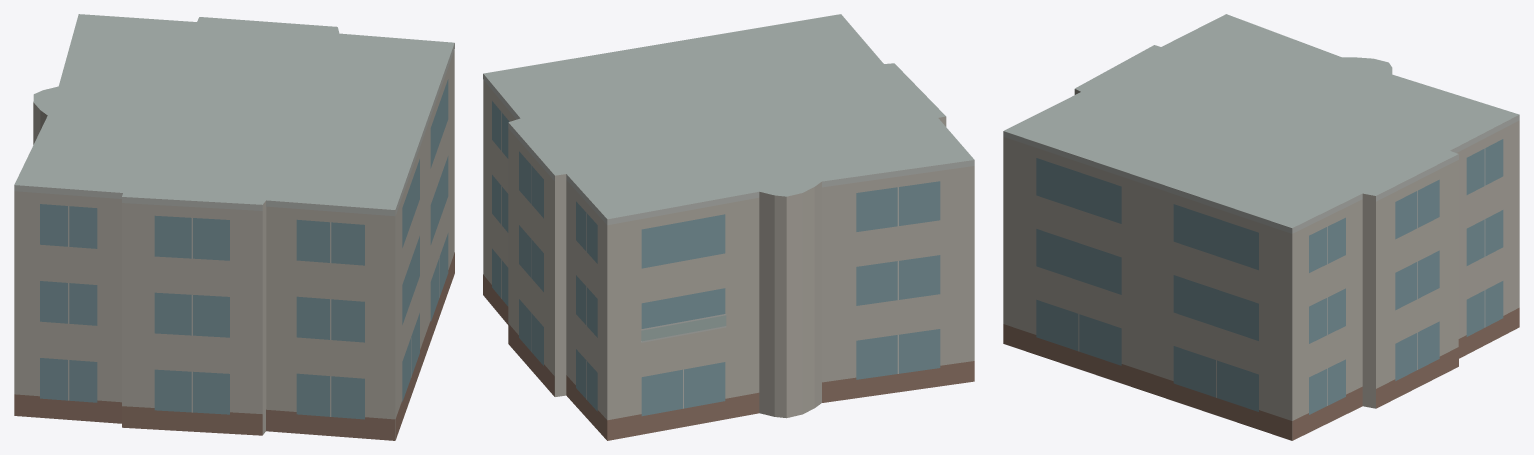
File: survey-upis-32678559.glb
3 views of the same model, side by side, from view 1: azimuth 30°, elevation 25°; view 2: azimuth 150°, elevation 25°; view 3: azimuth 270°, elevation 25° (orthographic). The views are drawn at different scales.
Parts seen in each view (by area): view 1: survey-upis-32678559.tmp; view 2: survey-upis-32678559.tmp; view 3: survey-upis-32678559.tmp.
Part boxes in pixels (bbox=[...]): survey-upis-32678559.tmp: bbox=[14, 14, 454, 440]; survey-upis-32678559.tmp: bbox=[483, 14, 974, 440]; survey-upis-32678559.tmp: bbox=[1003, 14, 1519, 440].
Bounding box in the file's own units: 19.77 × 9.15 × 20.14.
